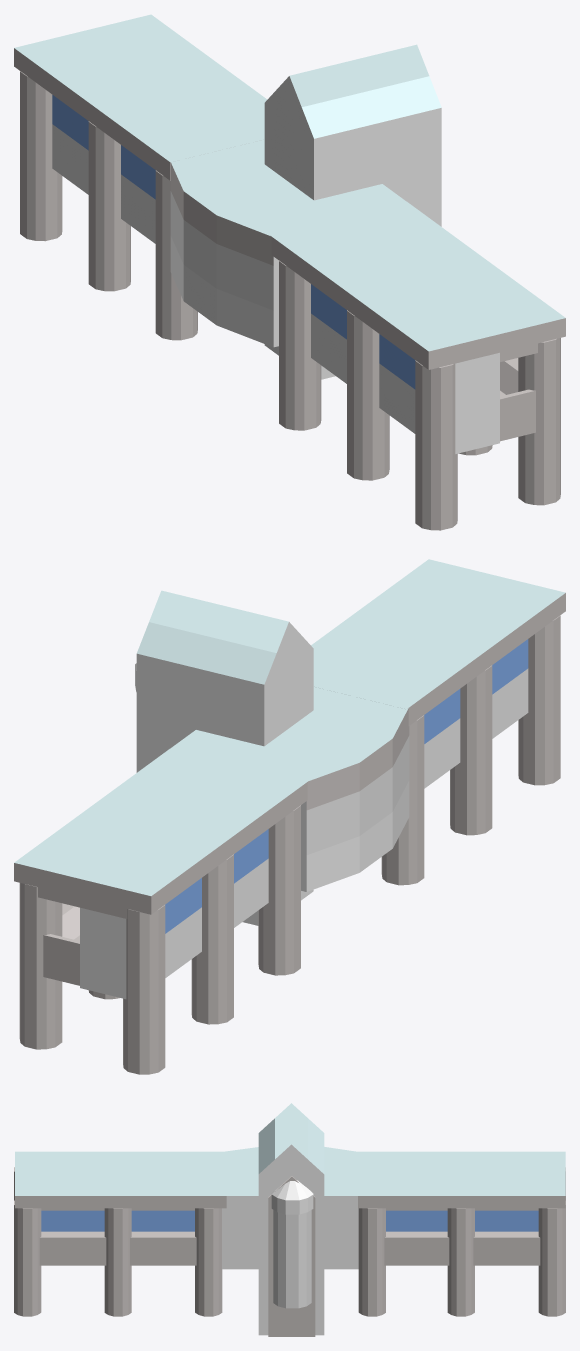
File: yahaba_tuuro_2.glb
The picture shows the model from 3 angles, top to bottom: view 1: azimuth 30°, elevation 25°; view 2: azimuth 150°, elevation 25°; view 3: azimuth 270°, elevation 25°; orthographic projection. The views are drawn at different scales.
Visible parts, largest first — view 1: 渡り廊下・屋根_1, 渡り廊下・支柱, 渡り廊下・階段部分, 立方体.013, 渡り廊下・後方側, 渡り廊下・ベランダ; view 2: 渡り廊下・屋根_1, 渡り廊下・支柱, 渡り廊下・階段部分, 立方体.013, 渡り廊下・後方側, 渡り廊下・ベランダ, 渡り廊下・屋根_2; view 3: 渡り廊下・屋根_1, 渡り廊下・支柱, 渡り廊下・ベランダ, 立方体.013, 渡り廊下・階段部分, 渡り廊下・後方側, 渡り廊下・階段部分・ガラス筒, 渡り廊下・階段部分・コンクリ, 渡り廊下・階段部分・鉄のフタ, 渡り廊下・屋根_2.
Part boxes in pixels (<box>): 渡り廊下・屋根_1: <box>14,14,565,369</box>; 渡り廊下・支柱: <box>20,71,560,530</box>; 渡り廊下・階段部分: <box>264,44,441,379</box>; 立方体.013: <box>170,139,405,347</box>; 渡り廊下・後方側: <box>52,95,499,453</box>; 渡り廊下・ベランダ: <box>500,358,535,441</box>; 渡り廊下・屋根_1: <box>14,559,565,914</box>; 渡り廊下・支柱: <box>19,615,560,1074</box>; 渡り廊下・階段部分: <box>136,590,313,925</box>; 立方体.013: <box>171,687,409,891</box>; 渡り廊下・後方側: <box>80,639,528,999</box>; 渡り廊下・ベランダ: <box>43,903,79,985</box>; 渡り廊下・屋根_2: <box>38,887,127,918</box>; 渡り廊下・屋根_1: <box>15,1151,565,1208</box>; 渡り廊下・支柱: <box>14,1167,565,1316</box>; 渡り廊下・ベランダ: <box>39,1231,540,1265</box>; 立方体.013: <box>222,1147,358,1269</box>; 渡り廊下・階段部分: <box>258,1103,324,1335</box>; 渡り廊下・後方側: <box>41,1210,538,1231</box>; 渡り廊下・階段部分・ガラス筒: <box>273,1210,311,1308</box>; 渡り廊下・階段部分・コンクリ: <box>268,1176,315,1336</box>; 渡り廊下・階段部分・鉄のフタ: <box>271,1180,313,1214</box>; 渡り廊下・屋根_2: <box>41,1208,538,1210</box>.
Size of the model in its own units: 3.31 by 3.87 by 10.09.
2 materials, 2 textured.
